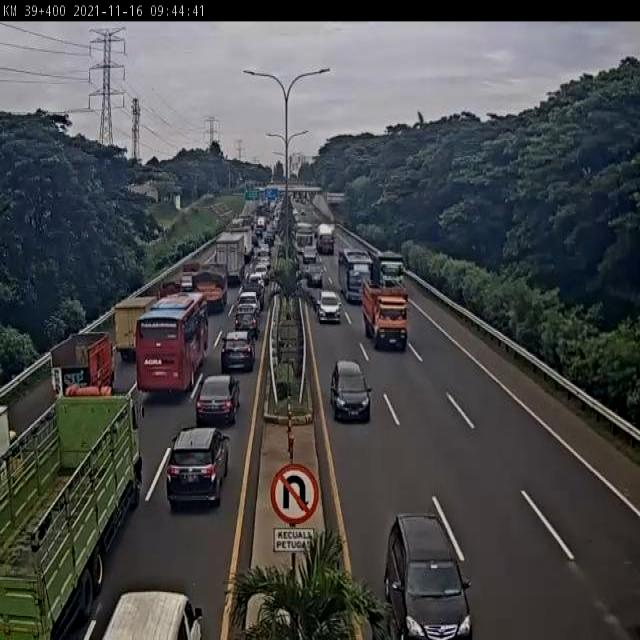Bus: (134, 292, 208, 392), (338, 247, 370, 302)
Car: (384, 512, 471, 637), (93, 589, 203, 639), (166, 426, 232, 509), (330, 360, 372, 421), (195, 374, 240, 426), (220, 331, 256, 374), (233, 306, 260, 340), (316, 290, 342, 324), (243, 280, 265, 310), (237, 292, 260, 320), (304, 263, 324, 289), (305, 282, 321, 312), (253, 262, 270, 288), (302, 246, 318, 267), (255, 246, 270, 268), (180, 273, 195, 292), (264, 229, 274, 246), (300, 208, 306, 215)
Truck: (0, 392, 141, 640), (50, 330, 114, 391), (362, 280, 408, 348), (194, 263, 228, 313), (215, 234, 246, 281), (371, 251, 406, 284)
